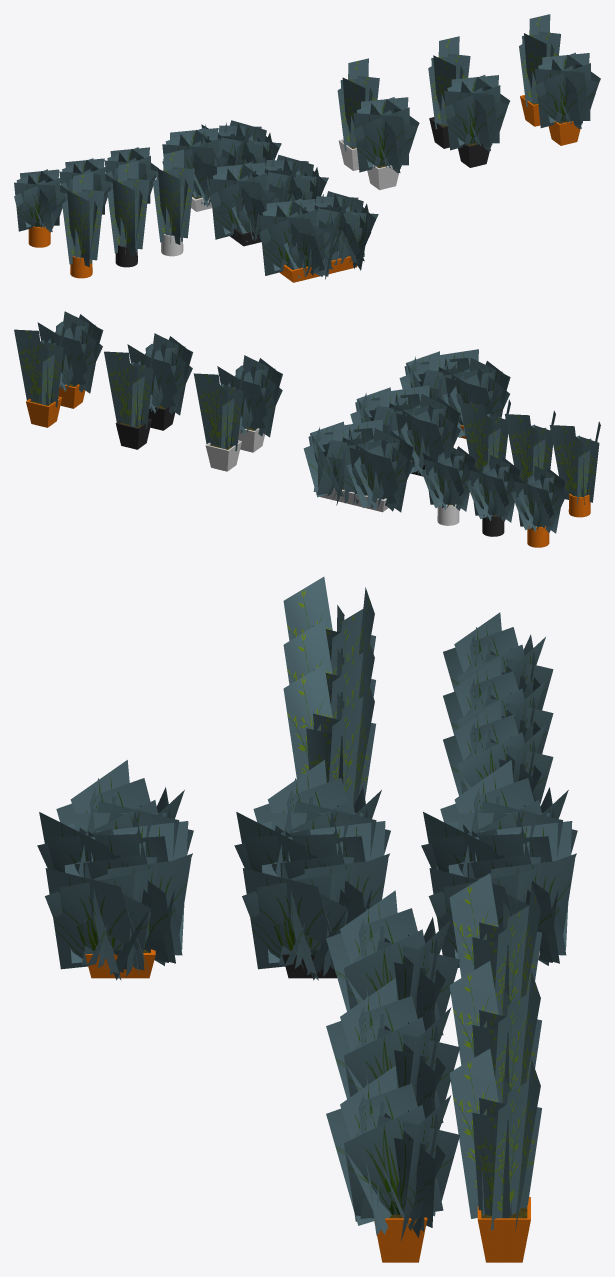
File: plants.glb
3 renders of one model, top to bottom at view 1: azimuth 30°, elevation 25°; view 2: azimuth 150°, elevation 25°; view 3: azimuth 270°, elevation 25°, orthographic. The views are drawn at different scales.
Visible parts, largest first — view 1: Pot_8, Pot_7, Pot_3, Pot_13, Pot_14, Pot_12, Pot_11, Pot_10, Pot_9, Pot_2, Pot_5, Pot_6 (+3 smaller); view 2: Pot_3, Pot_7, Pot_8, Pot_6, Pot_4, Pot_5, Pot_13, Pot_12, Pot_14, Pot_11, Pot_2, Pot (+3 smaller); view 3: Pot_8, Pot_7, Pot_3, Pot_14, Pot_6, Pot_13, Pot_12, Pot_9, Pot_4, Pot_5, Pot, Pot_2 (+3 smaller).
Part boxes in pixels (box(x1,y1,x2,y2)): Pot_8: box(259, 191, 378, 282); Pot_7: box(209, 154, 328, 246); Pot_3: box(162, 120, 281, 211); Pot_13: box(444, 75, 509, 167); Pot_14: box(535, 52, 600, 145); Pot_12: box(353, 97, 419, 190); Pot_11: box(62, 172, 104, 278); Pot_10: box(107, 160, 149, 267); Pot_9: box(152, 149, 194, 256); Pot_2: box(14, 169, 68, 247); Pot_5: box(428, 36, 470, 148); Pot_6: box(519, 14, 560, 126); Pot_3: box(303, 419, 414, 512); Pot_7: box(350, 385, 461, 476); Pot_8: box(399, 349, 510, 438); Pot_6: box(14, 326, 65, 427); Pot_4: box(193, 370, 244, 471); Pot_5: box(104, 348, 154, 449); Pot_13: box(127, 333, 193, 430); Pot_12: box(217, 355, 282, 452); Pot_14: box(37, 311, 103, 408); Pot_11: box(549, 421, 600, 517); Pot_2: box(511, 466, 566, 547); Pot: box(421, 444, 476, 525); Pot_8: box(37, 760, 193, 980); Pot_7: box(234, 759, 390, 980); Pot_3: box(421, 760, 577, 967); Pot_14: box(326, 1066, 459, 1262); Pot_6: box(449, 1048, 541, 1262); Pot_13: box(326, 978, 459, 1122); Pot_12: box(326, 890, 459, 1035); Pot_9: box(283, 664, 375, 806); Pot_4: box(449, 873, 541, 1015); Pot_5: box(449, 961, 541, 1103); Pot: box(443, 700, 553, 804); Pot_2: box(443, 612, 553, 710).
Bounding box in the file's own units: 12.24 × 2.07 × 5.21.
1 material, 1 textured.
